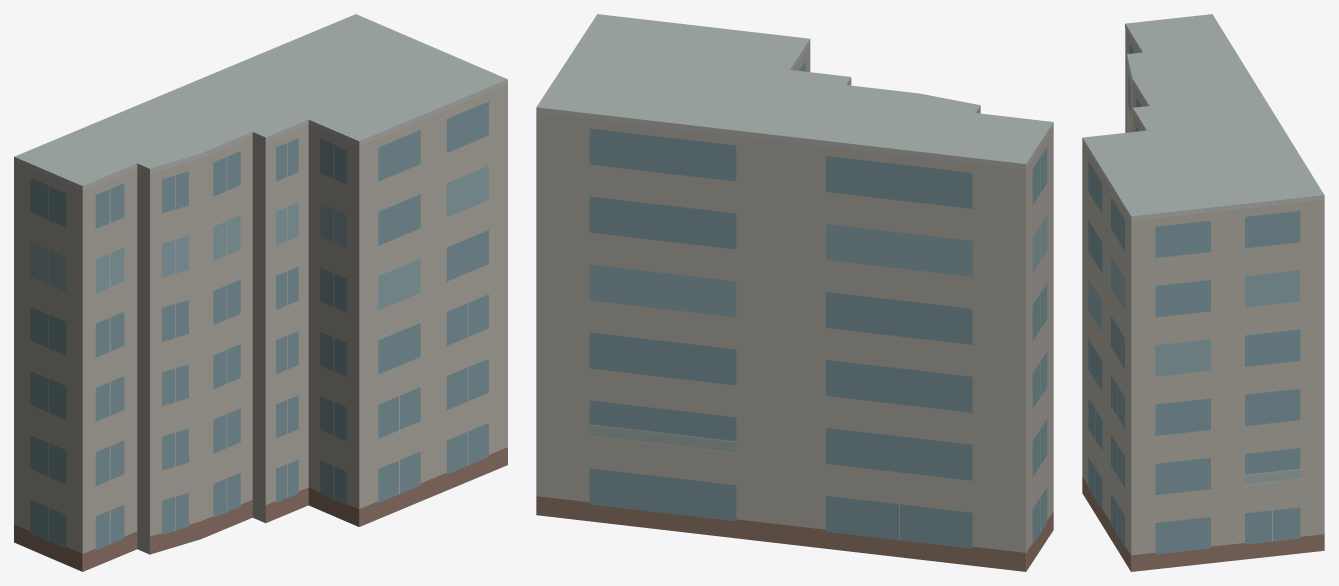
File: survey-upis-32653659.glb
3 renders of one model, left to right at view 1: azimuth 30°, elevation 25°; view 2: azimuth 150°, elevation 25°; view 3: azimuth 270°, elevation 25°, orthographic. The views are drawn at different scales.
Visible parts, largest first — view 1: survey-upis-32653659.tmp; view 2: survey-upis-32653659.tmp; view 3: survey-upis-32653659.tmp.
Part boxes in pixels (x1,y1,x2,y2): survey-upis-32653659.tmp: [14, 14, 507, 571]; survey-upis-32653659.tmp: [536, 14, 1053, 571]; survey-upis-32653659.tmp: [1082, 14, 1324, 571].
Bounding box in the file's own units: 22.33 × 18.3 × 11.3.
